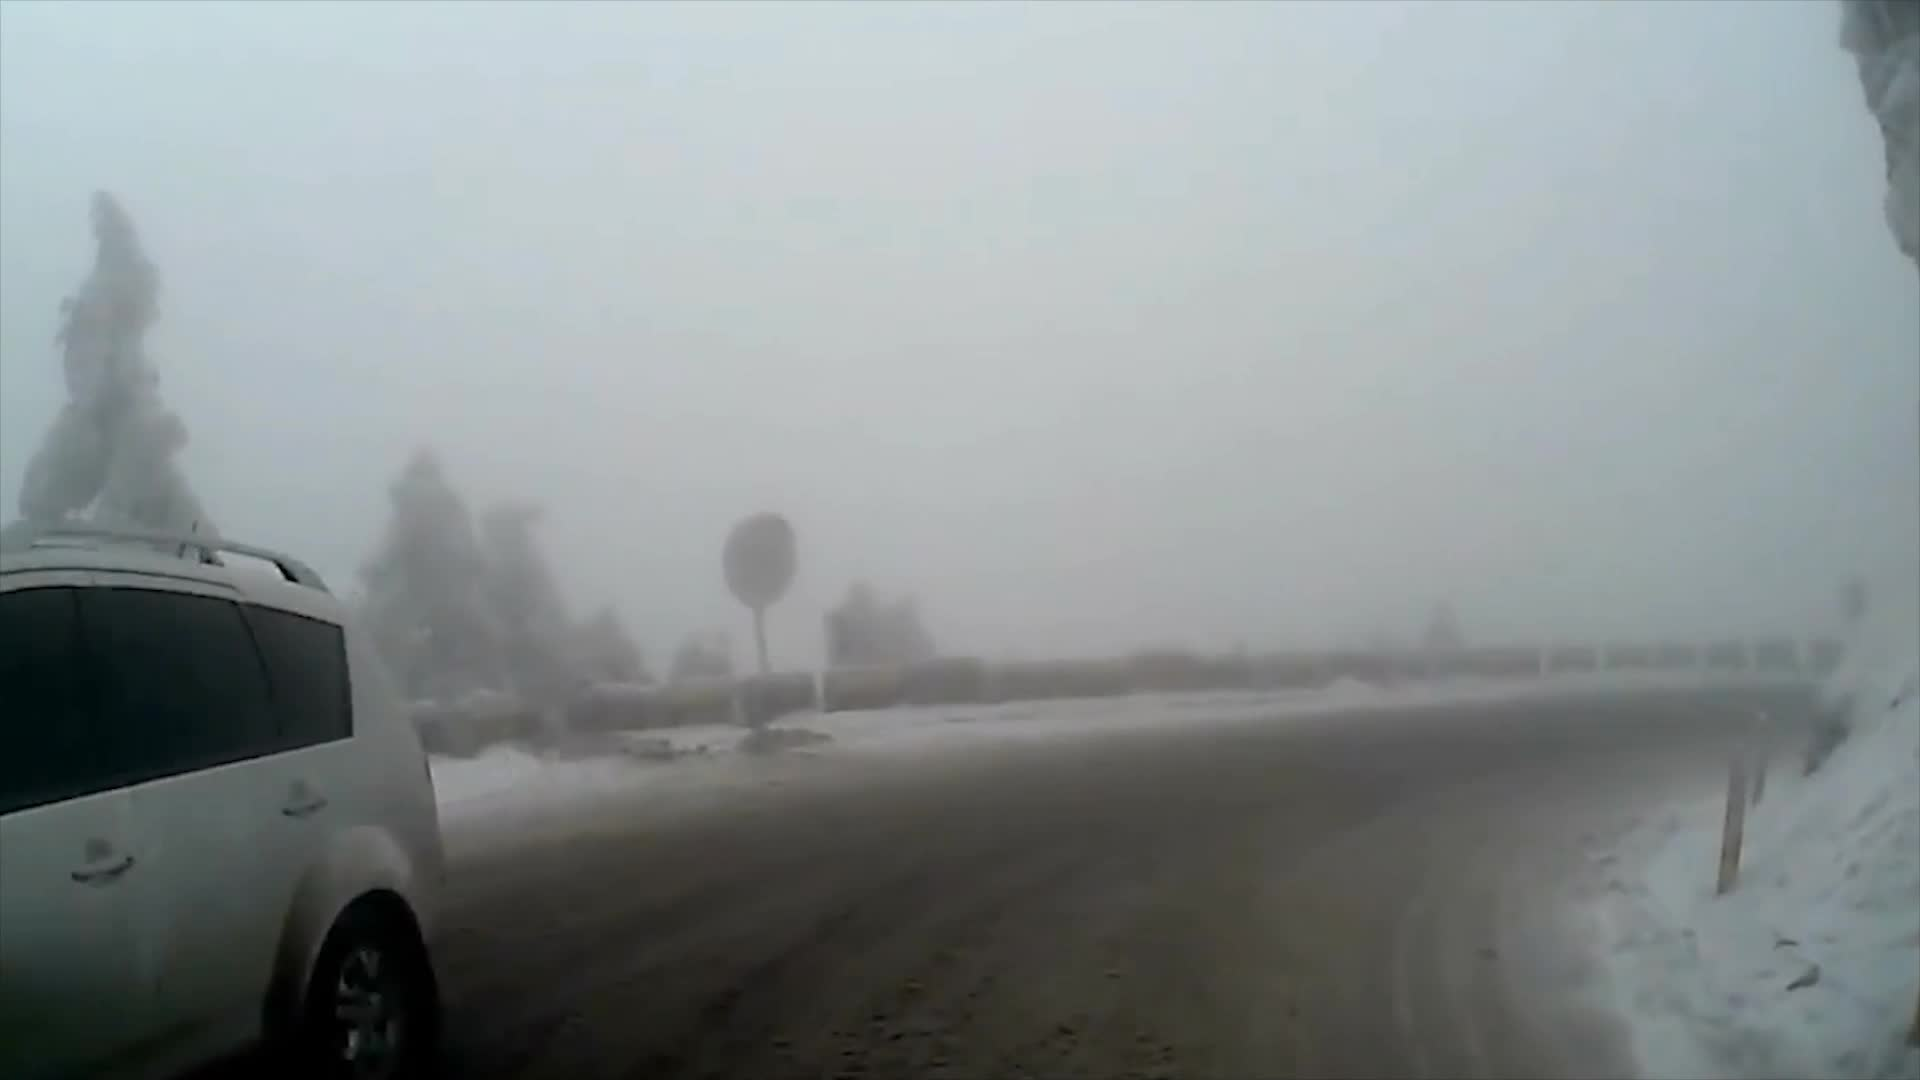vehicle: (0, 520, 448, 1080)
